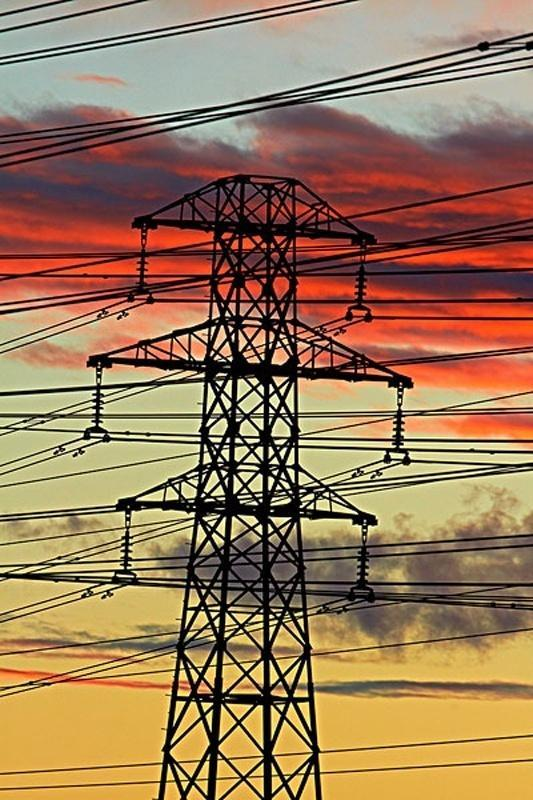power_tower: (85, 168, 412, 799)
